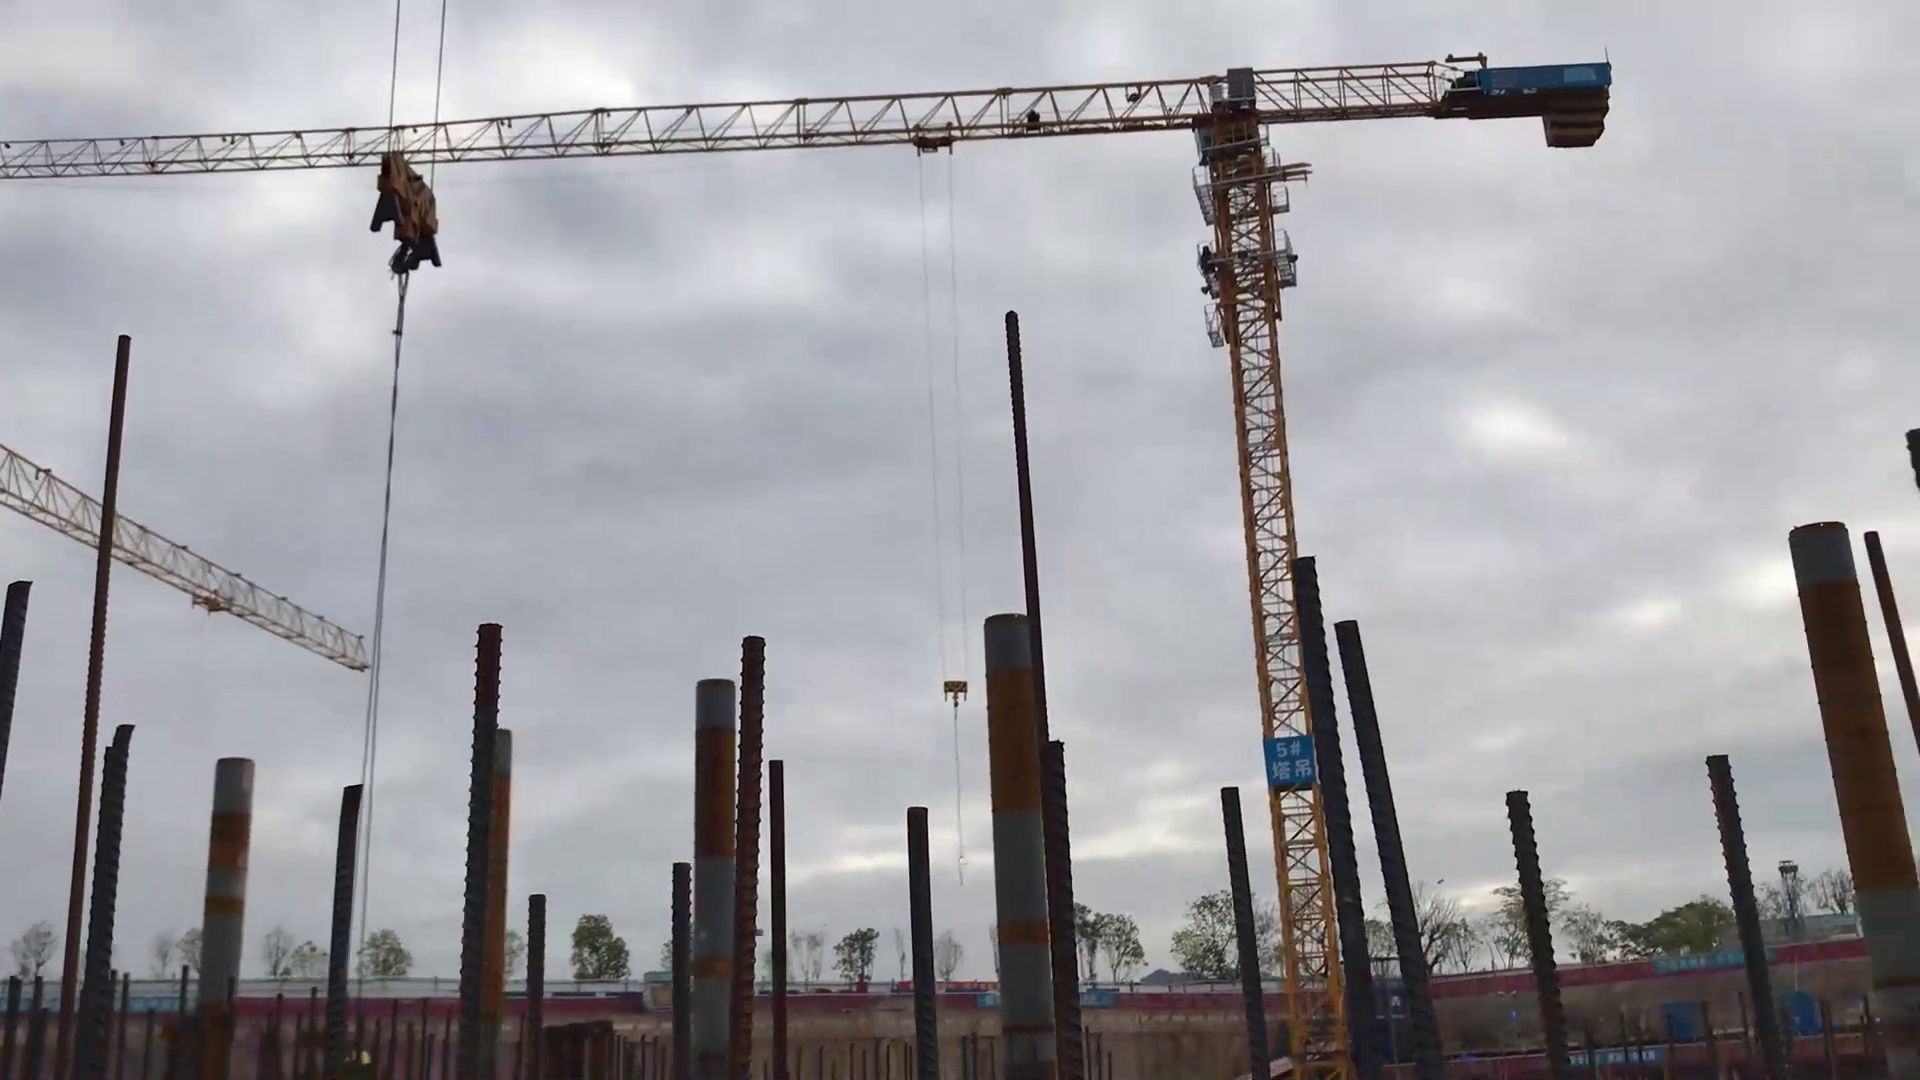fence: (790, 972, 913, 1035), (1775, 907, 1871, 984), (546, 975, 651, 1035), (1433, 953, 1530, 1015), (1126, 963, 1244, 1011), (1567, 938, 1642, 1006)
hook: (365, 142, 451, 284), (939, 671, 975, 713)
slogan: (1633, 932, 1755, 994), (1565, 1030, 1671, 1075), (1265, 723, 1320, 791)
